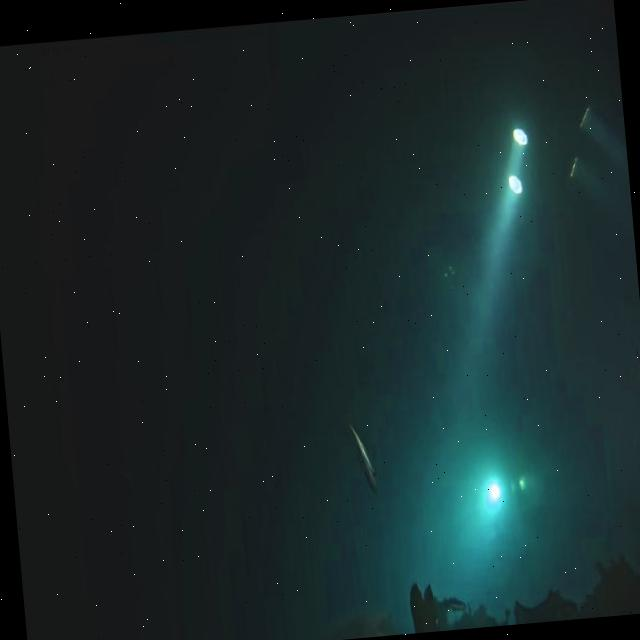fish: (344, 414, 380, 500), (438, 592, 467, 614)
